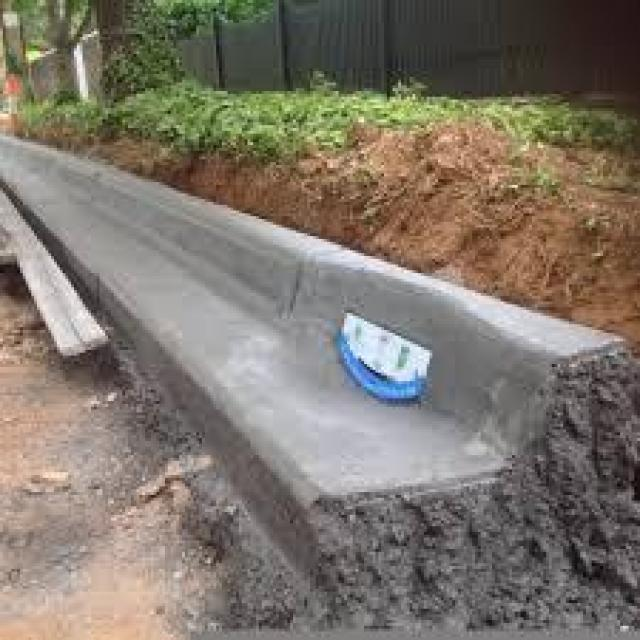curb: (241, 266, 600, 640), (14, 142, 321, 395)
